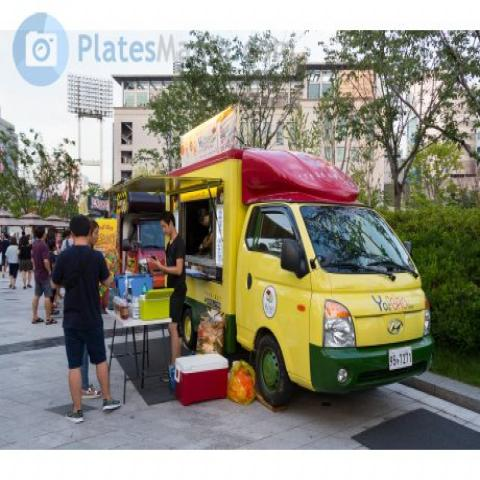LP: (384, 338, 416, 376)
